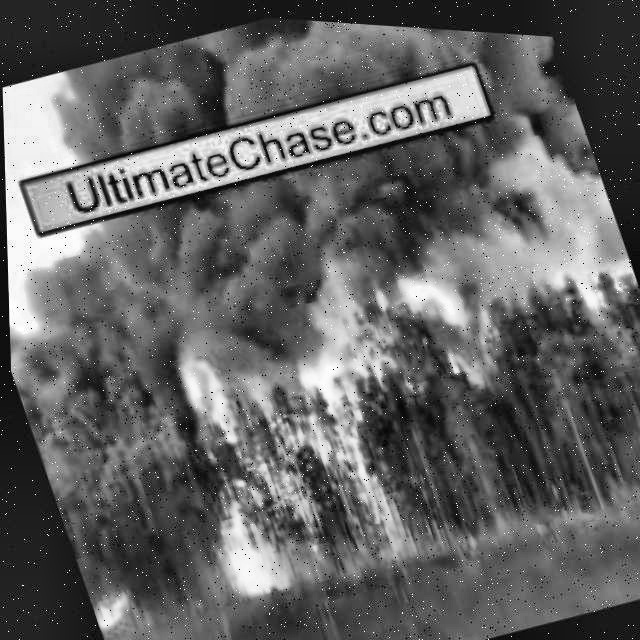Fire: (145, 293, 430, 619), (385, 238, 500, 384), (86, 585, 138, 640)
Smoke: (1, 51, 631, 442), (47, 2, 560, 194)
